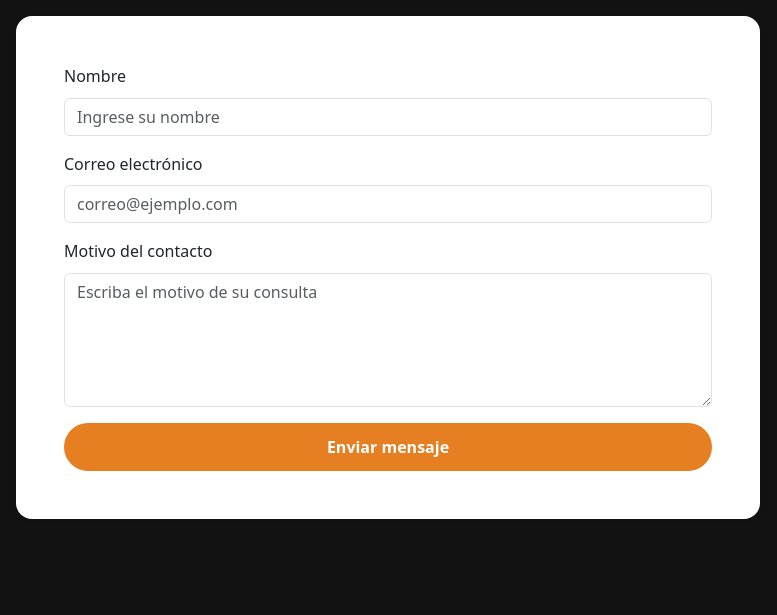
Scenario: FormularioContacto › valida y muestra errores para campos incompletos
Click the button "Enviar mensaje": (388, 447) [64,423,712,471]
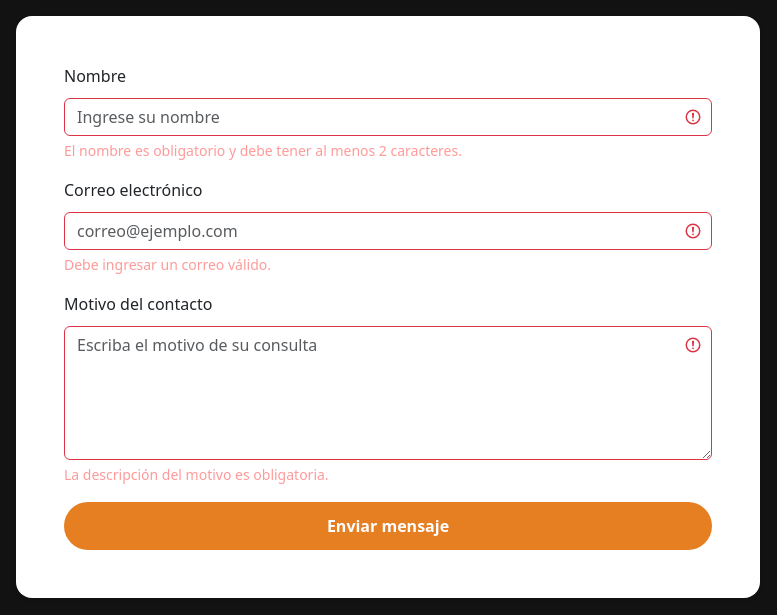
Expected: the text "El nombre es obligatorio y debe tener al menos 2 caracteres." is shown, [64,141,462,160]
Expected: the text "Debe ingresar un correo válido." is shown, [64,255,271,274]
Expected: the text "La descripción del motivo es obligatoria." is shown, [64,465,329,484]
